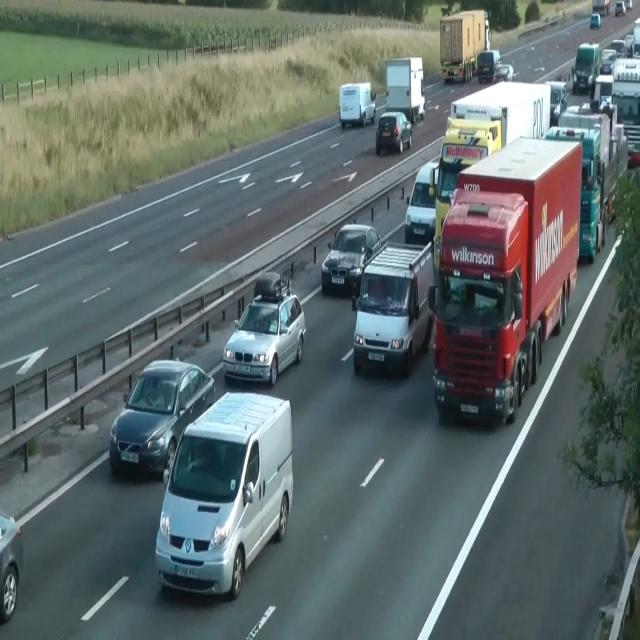bus: (108, 357, 215, 482), (222, 270, 306, 386), (321, 222, 381, 297), (404, 160, 439, 244), (0, 514, 24, 623), (375, 111, 413, 155), (599, 48, 617, 74), (493, 63, 515, 84), (610, 39, 626, 58), (589, 12, 601, 28), (614, 0, 626, 16), (624, 0, 632, 9)
car: (428, 134, 582, 425)
jeep: (154, 389, 294, 600), (351, 240, 435, 377)
minibus: (431, 79, 567, 281), (542, 124, 606, 263), (446, 80, 562, 156), (440, 9, 490, 83), (610, 58, 640, 166), (384, 56, 426, 123), (338, 82, 376, 129), (572, 42, 600, 94), (545, 79, 567, 125), (476, 49, 500, 83), (592, 0, 610, 16)
